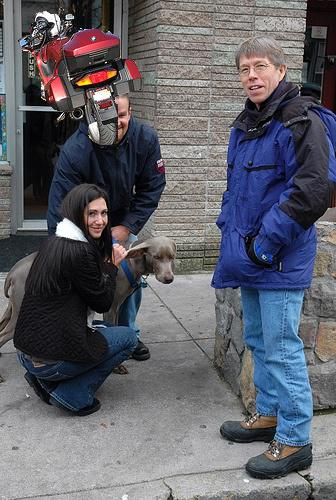tampered: (19, 1, 142, 145)
